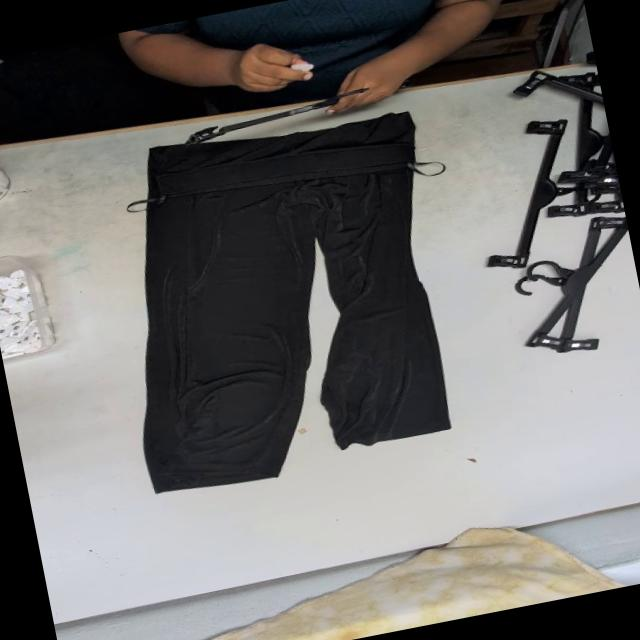new-garment: (144, 112, 449, 491)
